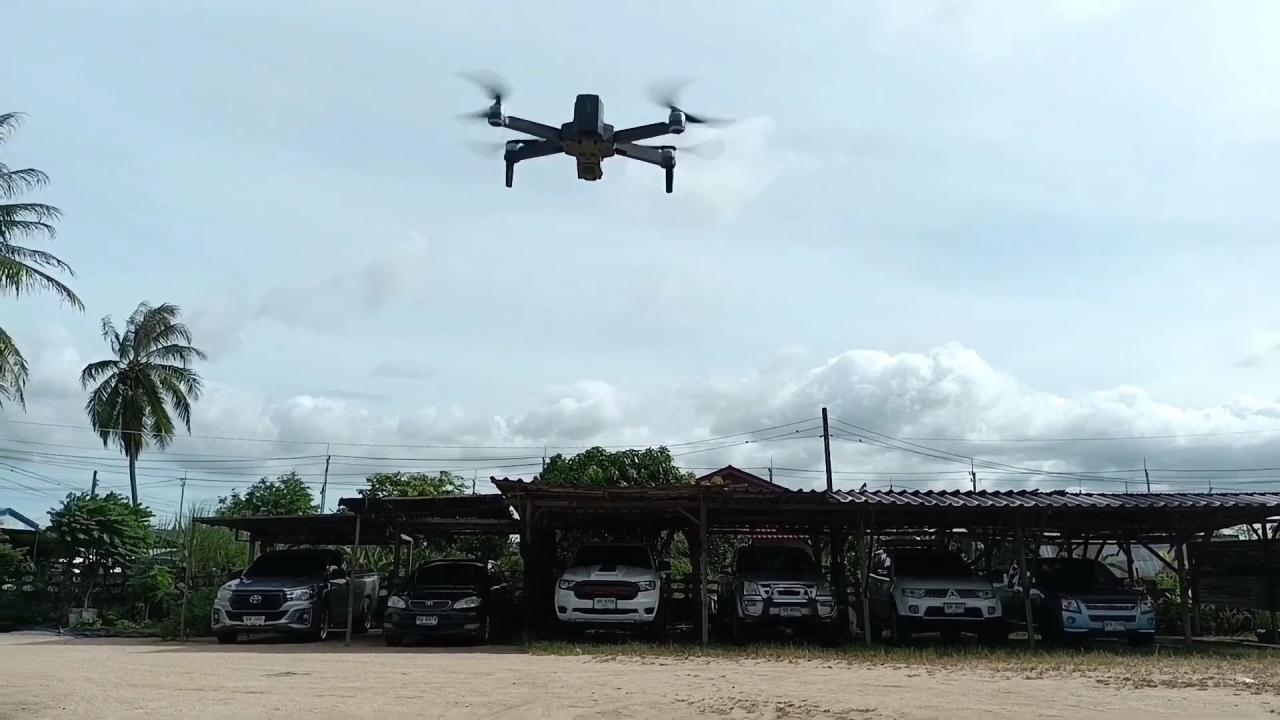Drone: (426, 55, 763, 203)
